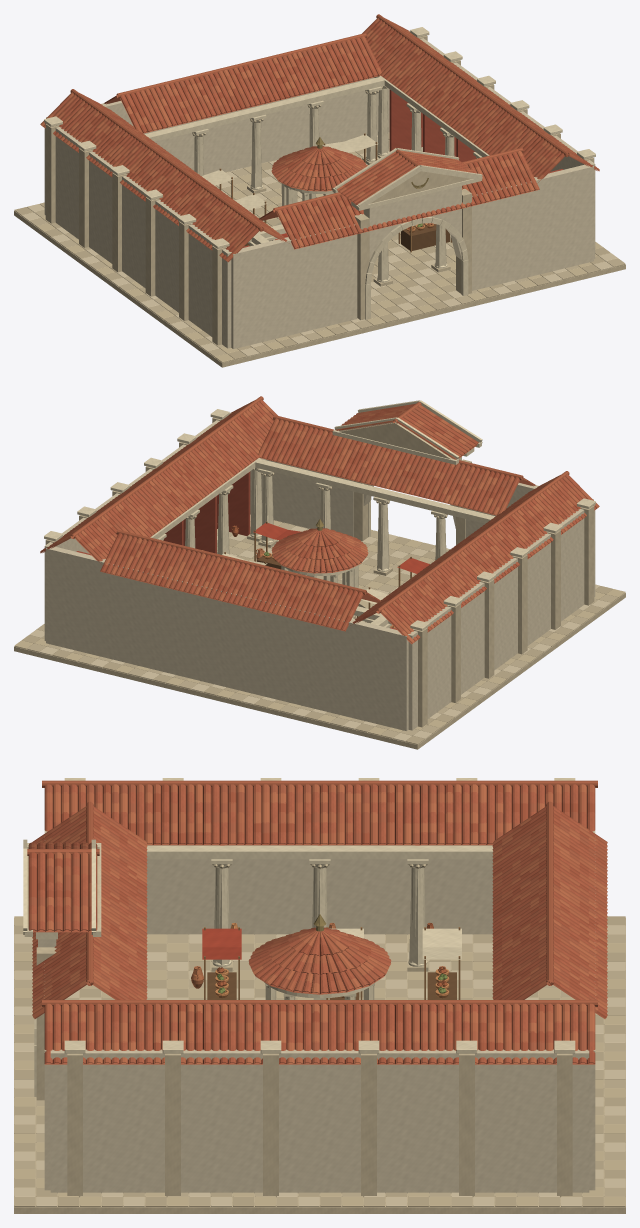
File: macellum.glb
The picture shows the model from 3 angles, top to bottom: view 1: azimuth 30°, elevation 25°; view 2: azimuth 150°, elevation 25°; view 3: azimuth 270°, elevation 25°; orthographic projection. The views are drawn at different scales.
Visible parts, largest first — view 1: Limewash.001, Limewash.002, Tile_0.001, Limestone_trim.001, Tile_1.001, Travertine.001, Travertine.002, Tile_2.001, Tile_4.001, Tile_3.001, Tile_5.001, Limestone_trim.002 (+11 smaller); view 2: Limewash.002, Limewash.001, Tile_0.001, Tile_1.001, Limestone_trim.001, Tile_2.001, Travertine.001, Travertine.002, Tile_5.001, Tile_4.001, Tile_3.001, Limestone_trim.002 (+12 smaller); view 3: Limewash.001, Tile_0.001, Limewash.002, Tile_1.001, Travertine.001, Tile_2.001, Tile_3.001, Tile_4.001, Tile_5.001, Limestone_trim.001, Paving_1.001, Travertine.002 (+11 smaller).
Part boxes in pixels (x1,y1,x2,y2): Limewash.001: (44,31,594,348); Limewash.002: (46,30,595,348); Tile_0.001: (57,20,599,248); Limestone_trim.001: (44,27,595,319); Tile_1.001: (43,14,577,261); Travertine.001: (14,36,602,365); Travertine.002: (14,35,625,367); Tile_2.001: (44,22,596,262); Tile_4.001: (53,22,595,259); Tile_3.001: (40,20,589,247); Tile_5.001: (54,17,582,256); Limestone_trim.002: (44,27,595,319); Limewash.002: (44,412,595,730); Limewash.001: (45,413,579,730); Tile_0.001: (44,399,582,630); Tile_1.001: (52,396,599,641); Limestone_trim.001: (44,400,595,630); Tile_2.001: (43,407,595,644); Travertine.001: (16,418,588,748); Travertine.002: (14,417,625,749); Tile_5.001: (63,404,593,629); Tile_4.001: (40,403,596,624); Tile_3.001: (56,404,579,643); Limestone_trim.002: (44,409,595,628); Limewash.001: (38,831,594,1192); Tile_0.001: (28,784,607,1063); Limewash.002: (44,830,595,1193); Tile_1.001: (27,780,607,1063); Travertine.001: (15,847,624,1212); Tile_2.001: (28,784,607,1064); Tile_3.001: (28,784,607,1063); Tile_4.001: (28,784,607,1063); Tile_5.001: (29,784,607,1063); Limestone_trim.001: (23,778,575,1096); Paving_1.001: (14,916,625,1206); Travertine.002: (14,918,625,1213).
Size of the model in its own units: 28 by 9.94 by 25.
Materials: 22 (9 with a texture image).
